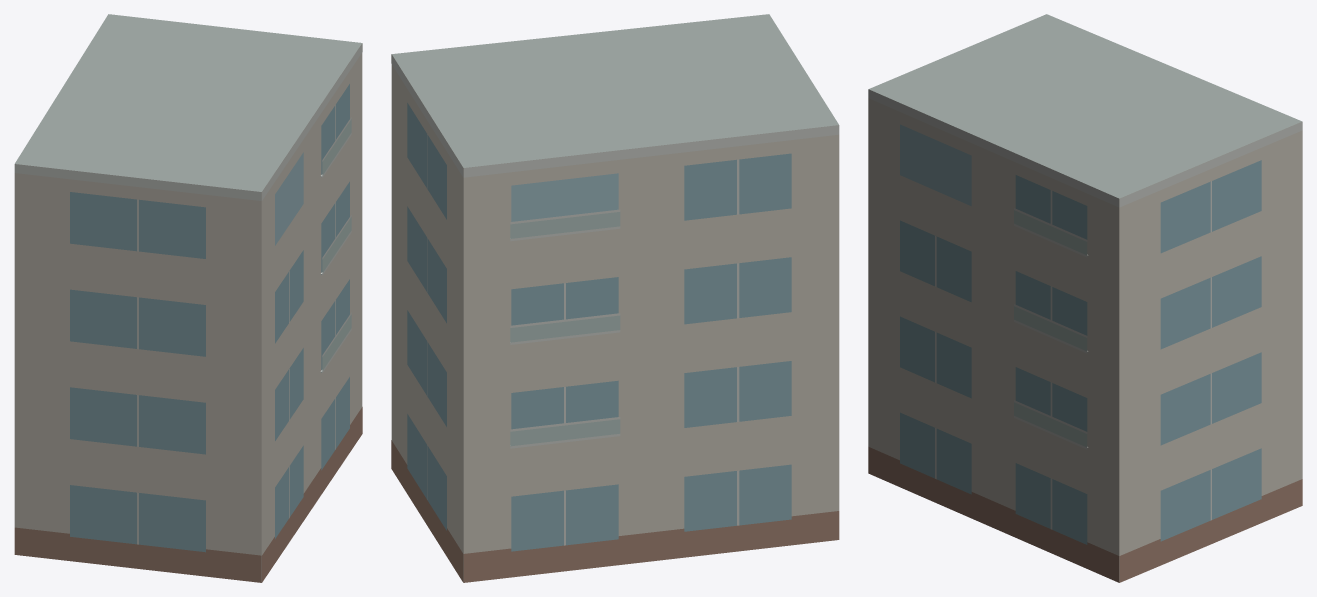
File: survey-upis-33016347.glb
The picture shows the model from 3 angles, left to right: view 1: azimuth 30°, elevation 25°; view 2: azimuth 150°, elevation 25°; view 3: azimuth 270°, elevation 25°; orthographic projection. The views are drawn at different scales.
Visible parts, largest first — view 1: survey-upis-33016347.tmp; view 2: survey-upis-33016347.tmp; view 3: survey-upis-33016347.tmp.
Boxes of the visible parts, bbox=[...] form: survey-upis-33016347.tmp: bbox=[14, 14, 362, 582]; survey-upis-33016347.tmp: bbox=[391, 14, 839, 582]; survey-upis-33016347.tmp: bbox=[868, 14, 1302, 582].
Size of the model in its own units: 10.83 by 10.5 by 10.76.
